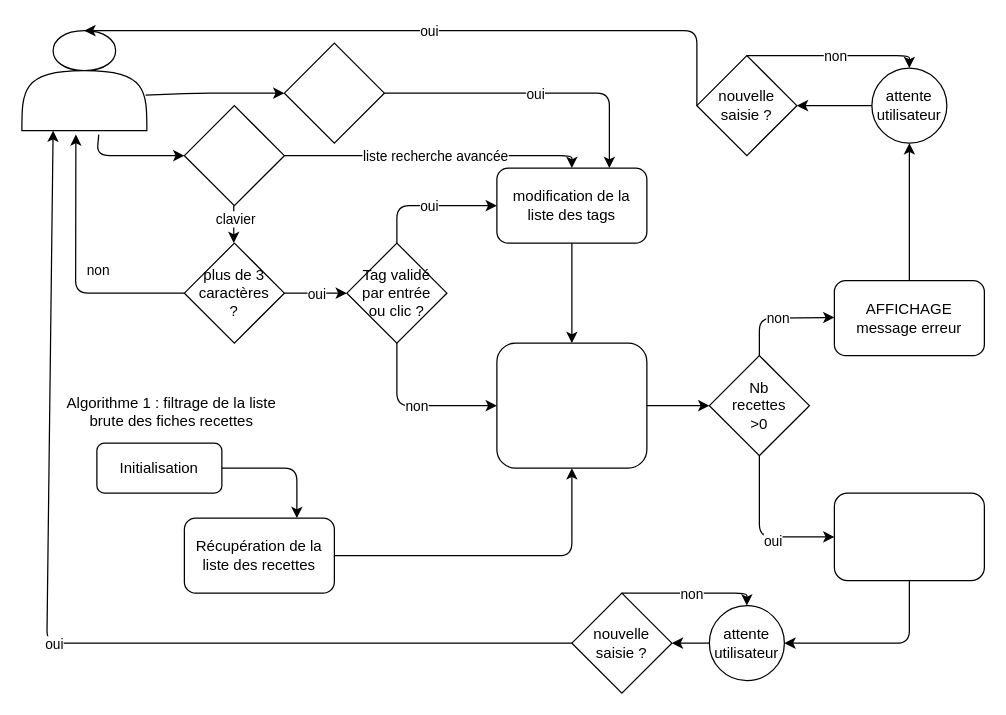
The diagram is 1006 pixels wide and 715 high, and some of its shapes have lost their labels. The centre of each missing label's shape, as x and y in pixels:
AFFICHAGE des fiches recettes actualisé: pixel 908 536
FILTRE mots du titre, ingrédients, description /saisies utilisateur: pixel 571 405
saisie clavier ou liste ?: pixel 233 155
Saisie utilisateur: pixel 84 80
suppression tag ?: pixel 333 92
